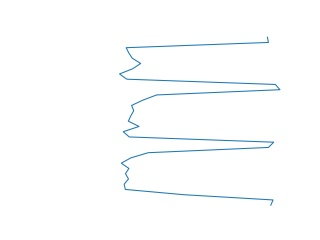majorRiverChannelBar: (116, 35, 282, 209)
